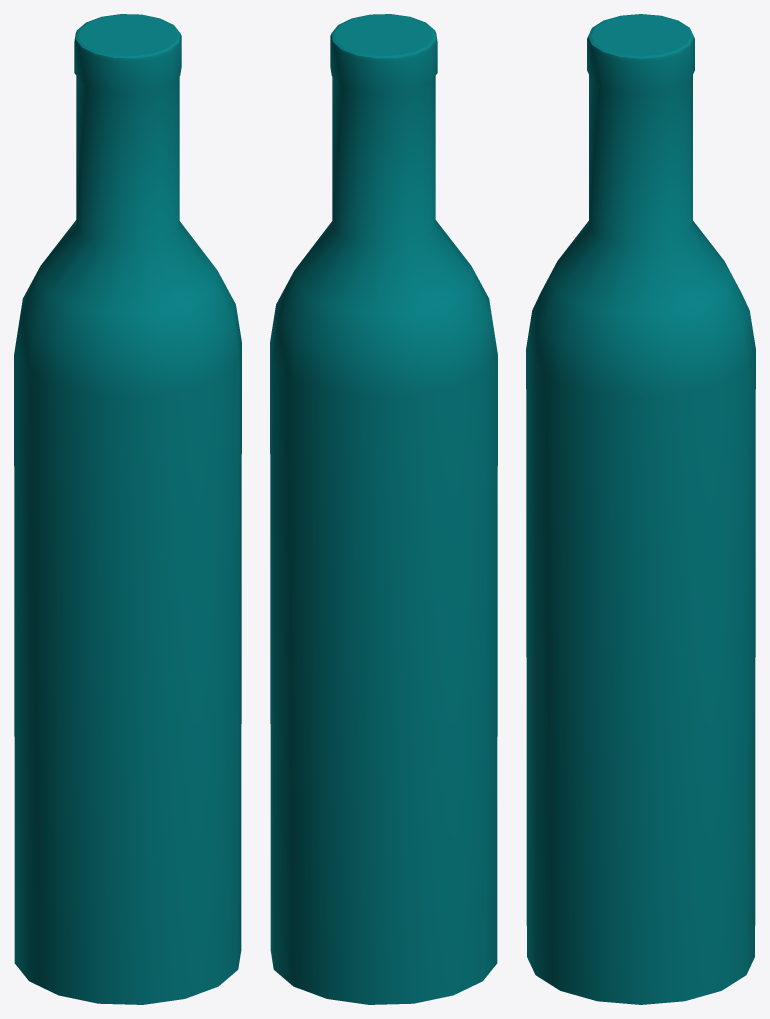
The model's file is Prop_Bottle02.FBX.
3 views of the same model, side by side, from view 1: azimuth 30°, elevation 25°; view 2: azimuth 150°, elevation 25°; view 3: azimuth 270°, elevation 25° (orthographic).
Visible parts, largest first — view 1: Bottle02; view 2: Bottle02; view 3: Bottle02.
Boxes of the visible parts, x1,y1,x2,y2 form: Bottle02: (14,14,241,1004); Bottle02: (270,14,497,1004); Bottle02: (526,14,755,1004).
Bounding box in the file's own units: 7.73 × 34.23 × 7.73.
